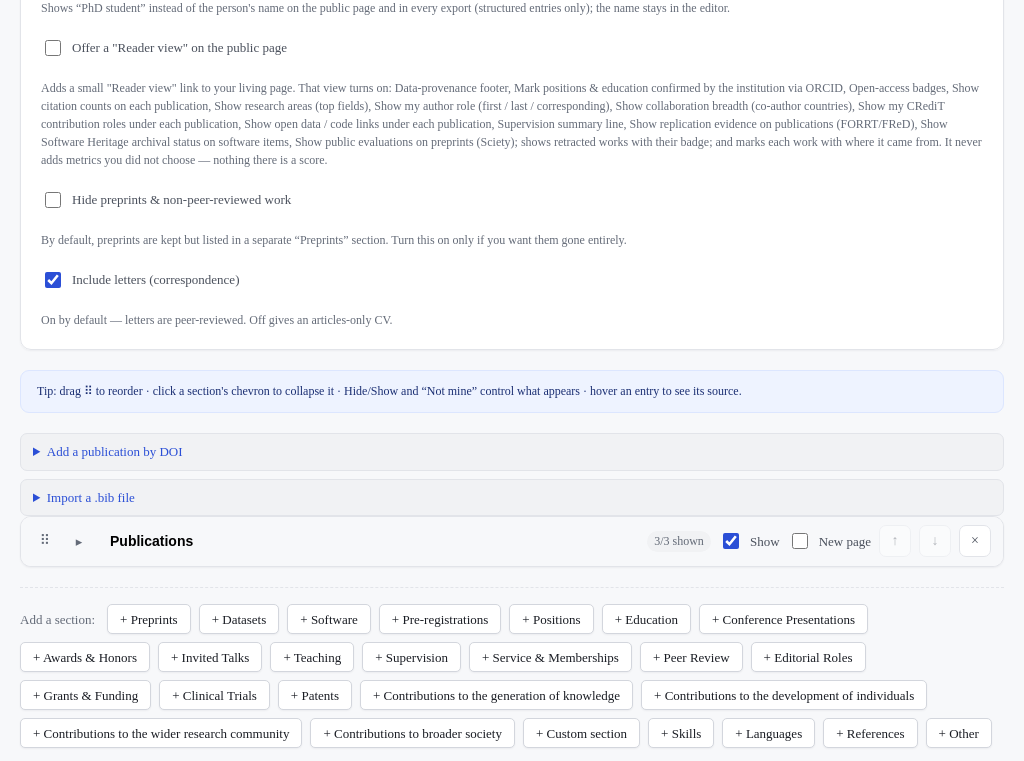
Test: CvEditor (component) › flags a weak (OpenAlex-ID-only) self-match for review
(page scrolled)
Click the button with class "section-toggle" at (79, 541), box left=65, top=527, right=93, bottom=555
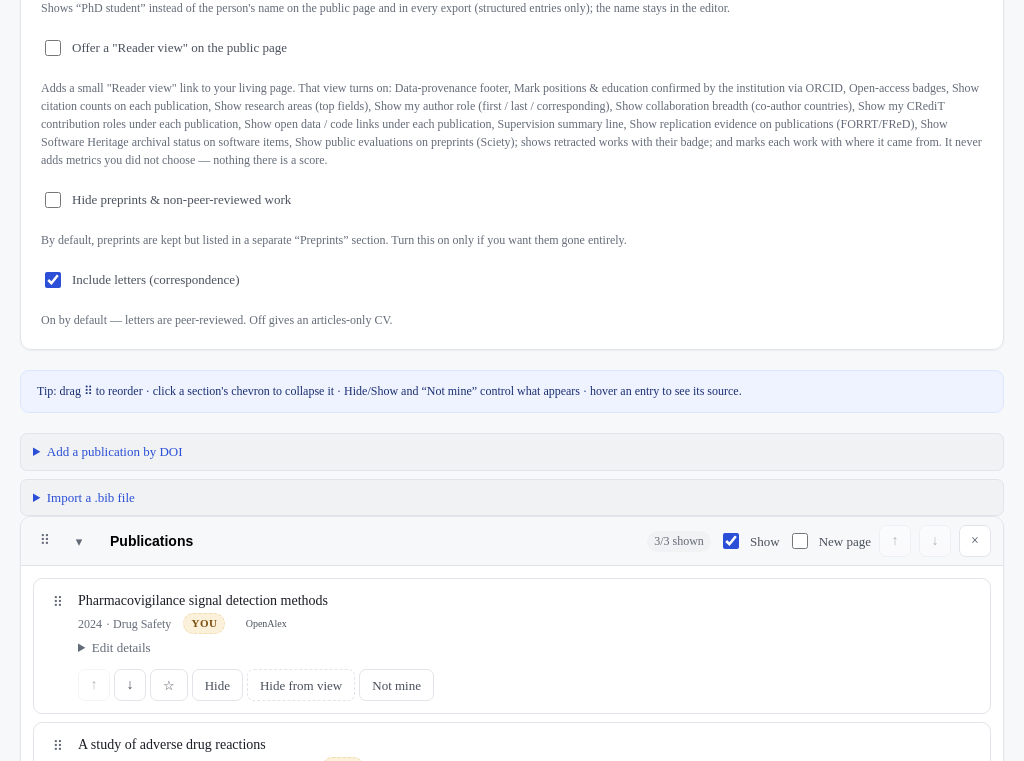
Expected: the text with class "is-weak-match" next to "Drug Safety" is shown, left=183, top=613, right=225, bottom=634
